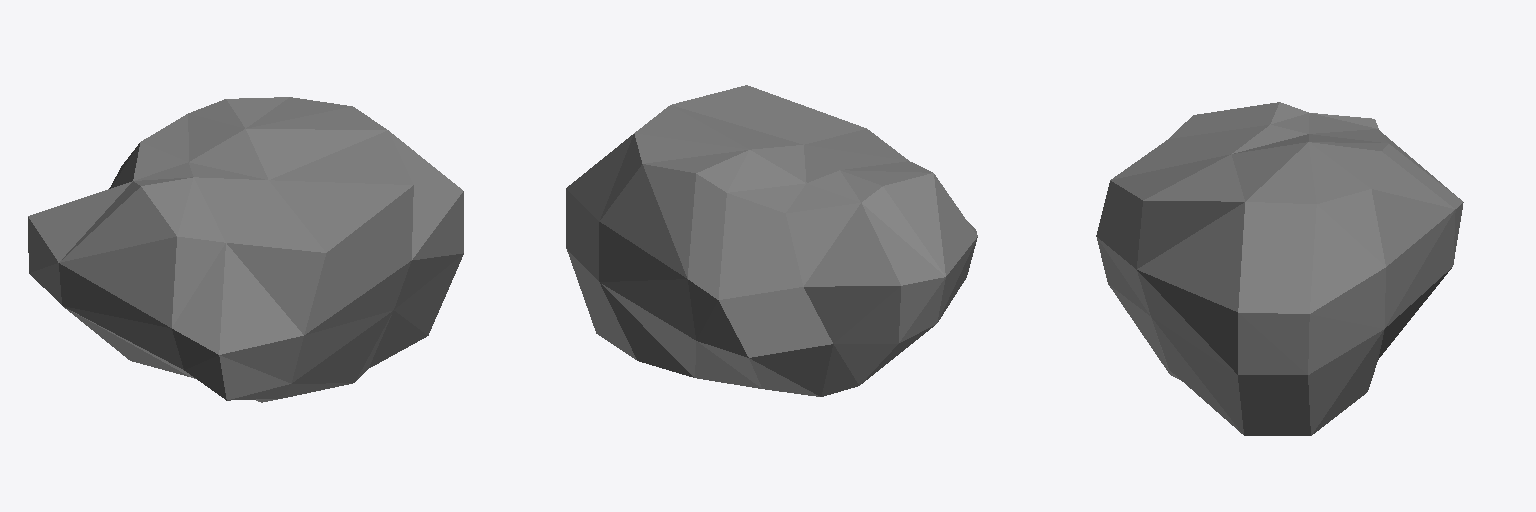
The model's file is rock2.obj.
3 renders of one model, left to right at view 1: azimuth 30°, elevation 25°; view 2: azimuth 150°, elevation 25°; view 3: azimuth 270°, elevation 25°, orthographic.
Visible parts, largest first — view 1: Rock_2_Cube.011; view 2: Rock_2_Cube.011; view 3: Rock_2_Cube.011.
Part boxes in pixels (x1,y1,x2,y2): Rock_2_Cube.011: (28, 97, 463, 402); Rock_2_Cube.011: (566, 85, 977, 396); Rock_2_Cube.011: (1096, 102, 1463, 435).
Size of the model in its own units: 4.16 by 2.46 by 3.53.